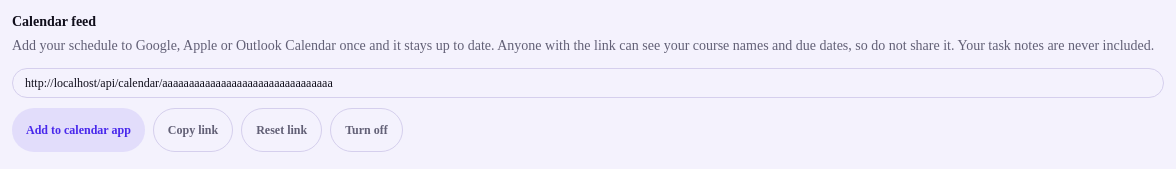
it: CalendarFeedSection › Turn off revokes the link and goes back to Create link
Click the button "Turn off" at coordinates (366, 130), box left=330, top=108, right=403, bottom=152
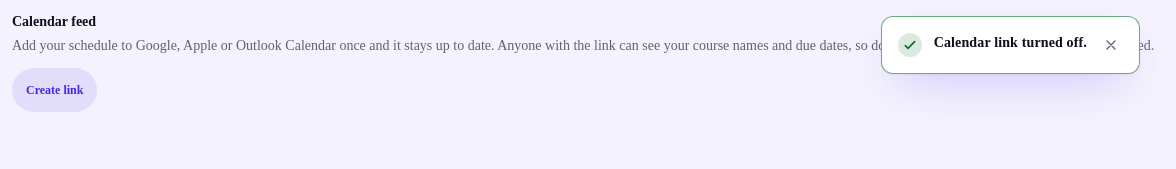
Now the button "Create link" is shown, box left=12, top=68, right=98, bottom=112
